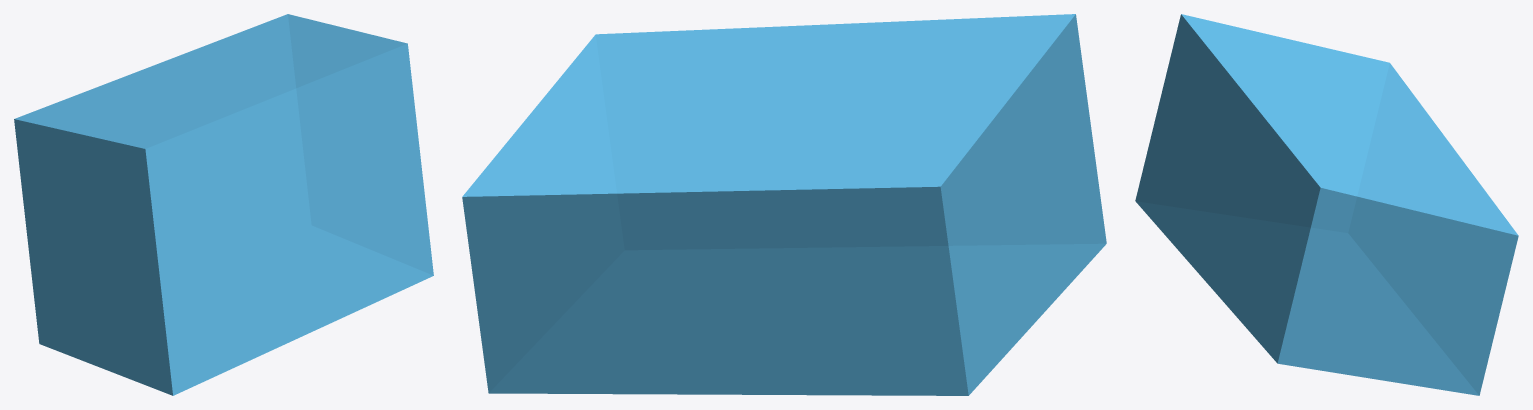
Rendered from Event_421556567_HErechit_7.fbx.
3 renders of one model, left to right at view 1: azimuth 30°, elevation 25°; view 2: azimuth 150°, elevation 25°; view 3: azimuth 270°, elevation 25°, orthographic. The views are drawn at different scales.
Visible parts, largest first — view 1: Model; view 2: Model; view 3: Model.
Part boxes in pixels (x1,y1,x2,y2): Model: (14,14,433,395); Model: (462,14,1106,395); Model: (1135,14,1518,395).
Bounding box in the file's own units: 0.6537 × 0.5207 × 0.7472.
